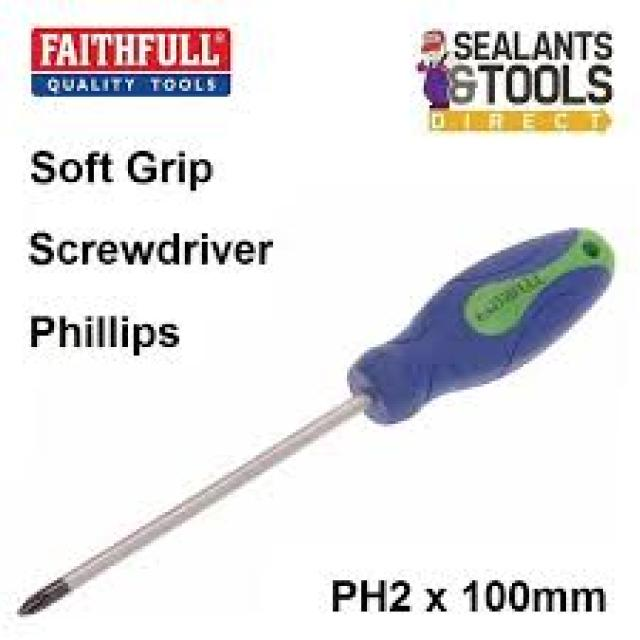screw driver: (12, 214, 640, 640)
